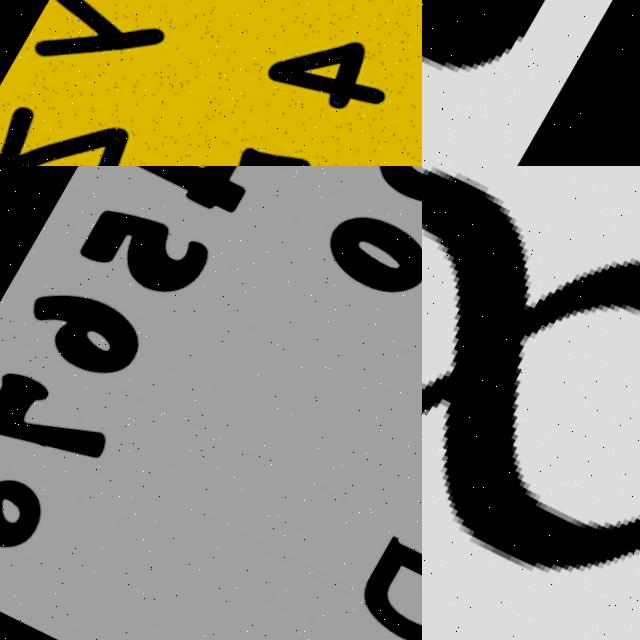0: (291, 187, 422, 332)
3: (278, 0, 422, 48)
4: (230, 0, 422, 166), (83, 166, 277, 247)
5: (56, 174, 225, 325), (174, 86, 395, 166)
6: (0, 254, 157, 403)
7: (0, 340, 137, 500)
8: (422, 166, 640, 640), (0, 423, 68, 571)
9: (348, 166, 422, 256)
J: (422, 0, 582, 146)
